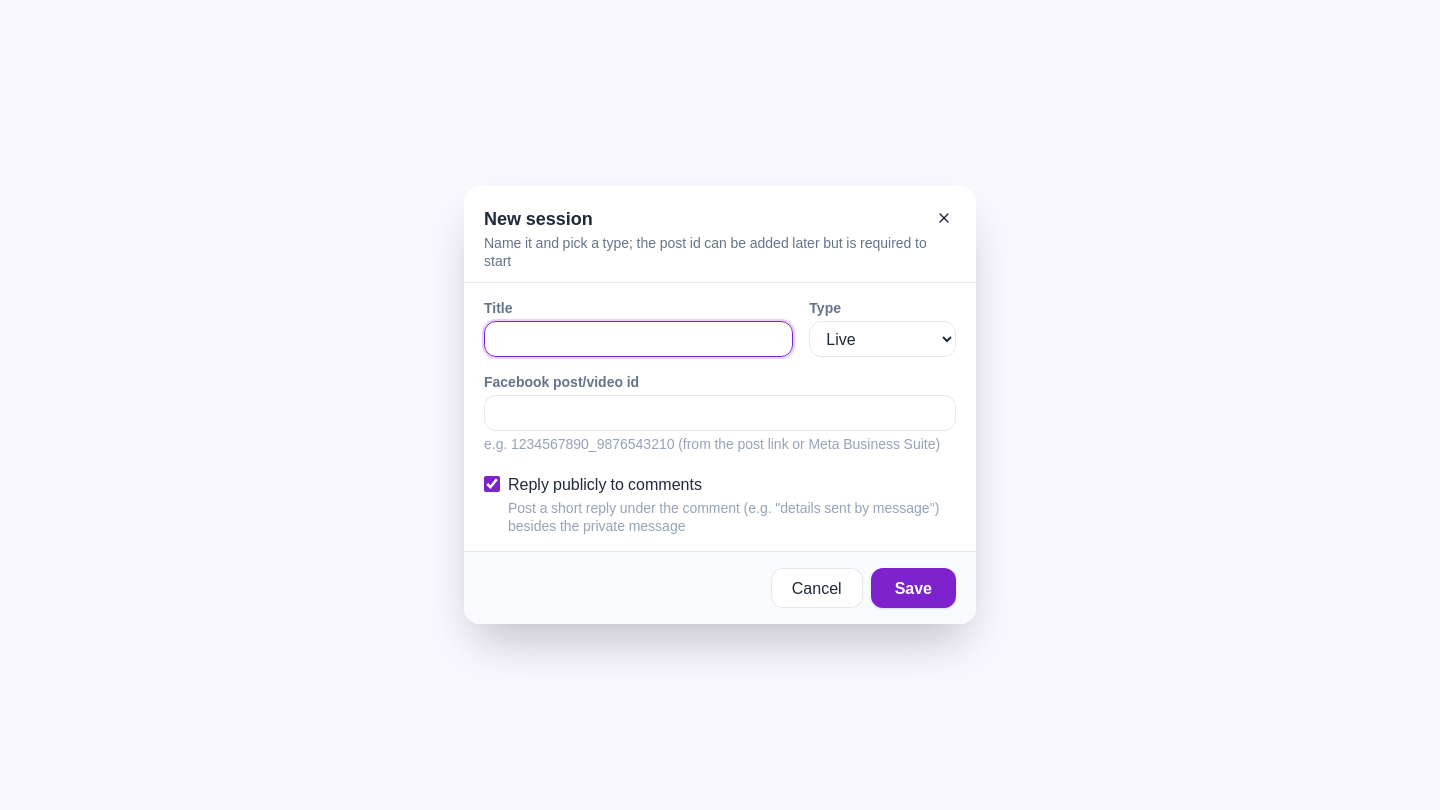
Test: SessionFormDialog › ຊື່ວ່າງ ຫຼື id ໂພສຜິດຮູບ: error ແລະ ບໍ່ສົ່ງ
Step 1. Type "abc/def" into the field labelled "Facebook post/video id" → (720, 413), box [484,395,956,431]
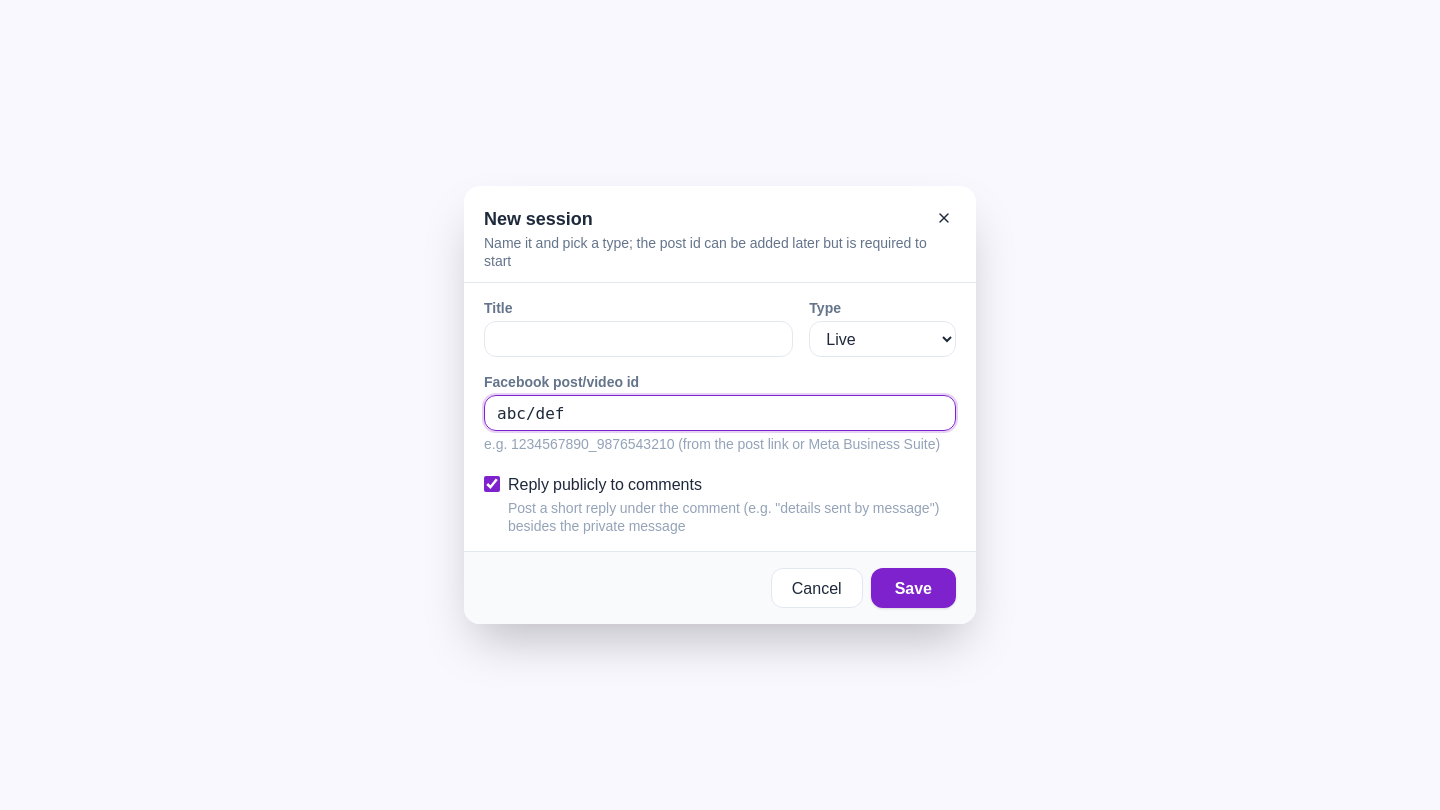
Step 2. Click the button "Save" → (913, 588), box [871,568,956,608]
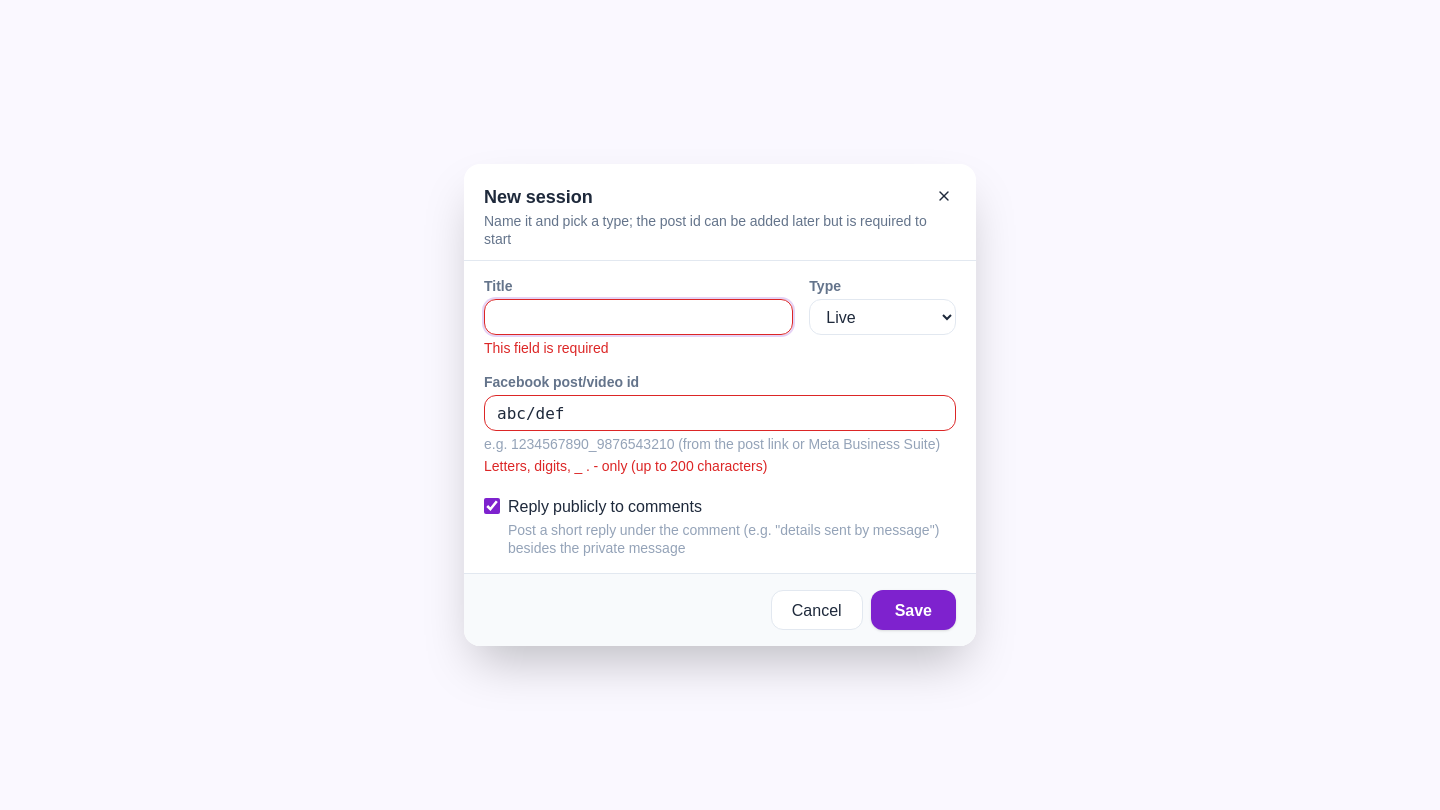
Expected: the text "This field is required" is shown, [484,336,608,359]
Expected: the text "Letters, digits, _ . - only (up to 200 characters)" is shown, [484,454,767,477]
